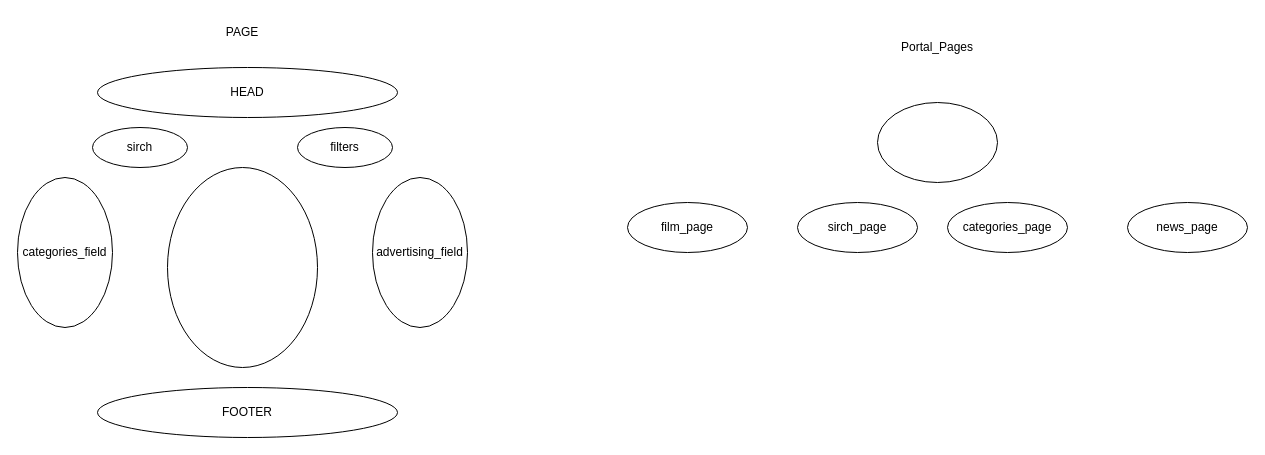
Some shapes in this 1265 by 455 pixel diagram are drawn without their labels. The shapes that lost their labels are listed below. From the top down, each one's centre as x and y in pixels, then its label:
At point 937,142: "Home_page".
At point 242,267: "content field".
